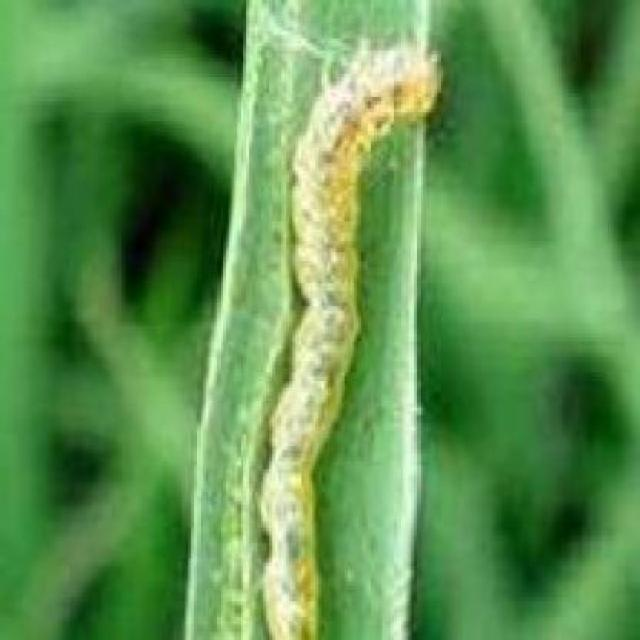leaf-folder: (244, 31, 442, 640)
